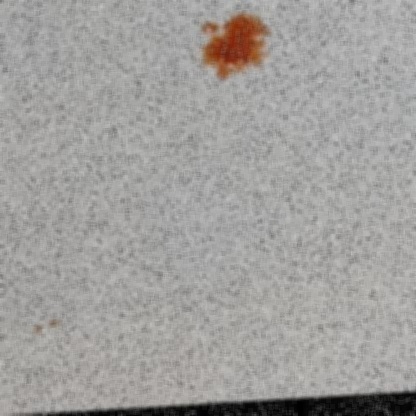kimchi: (192, 12, 272, 87)
